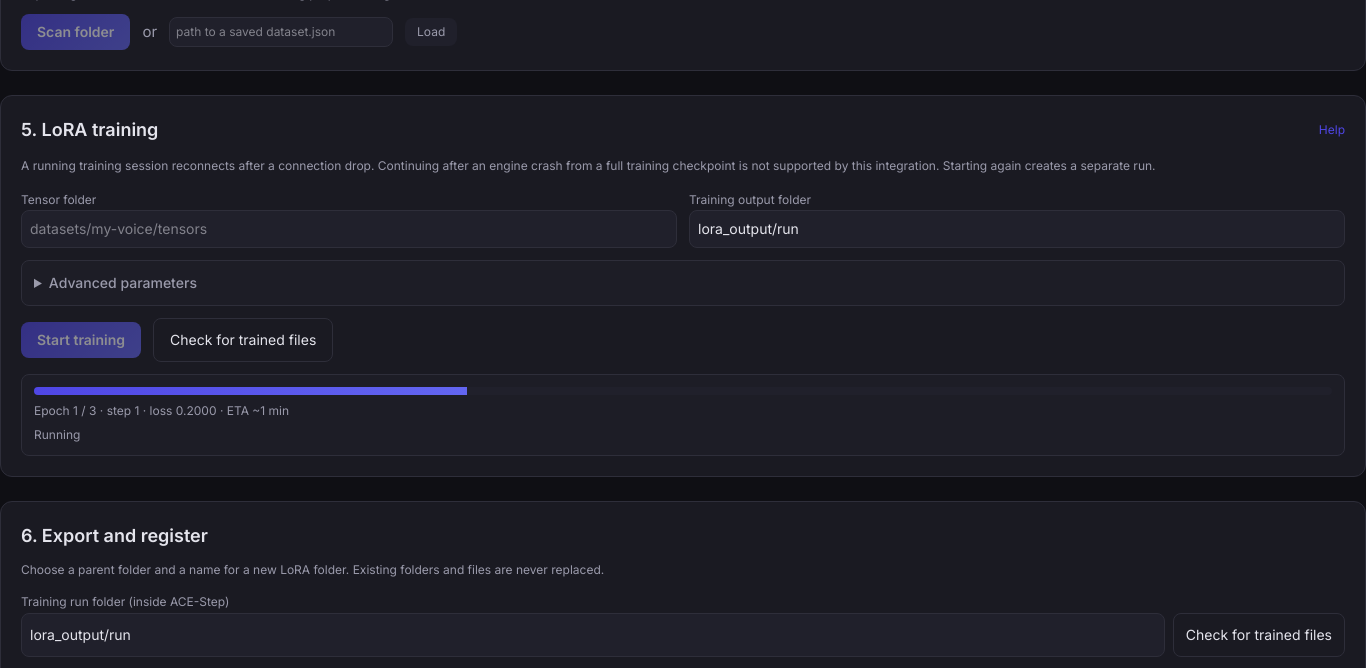
checks for a saved final adapter without starting training or exporting
This screenshot has width=1366, height=668.
(page scrolled)
Click the button "Check for trained files" below "Advanced parameters".
click(243, 340)  # box left=153, top=318, right=333, bottom=362
(page scrolled)
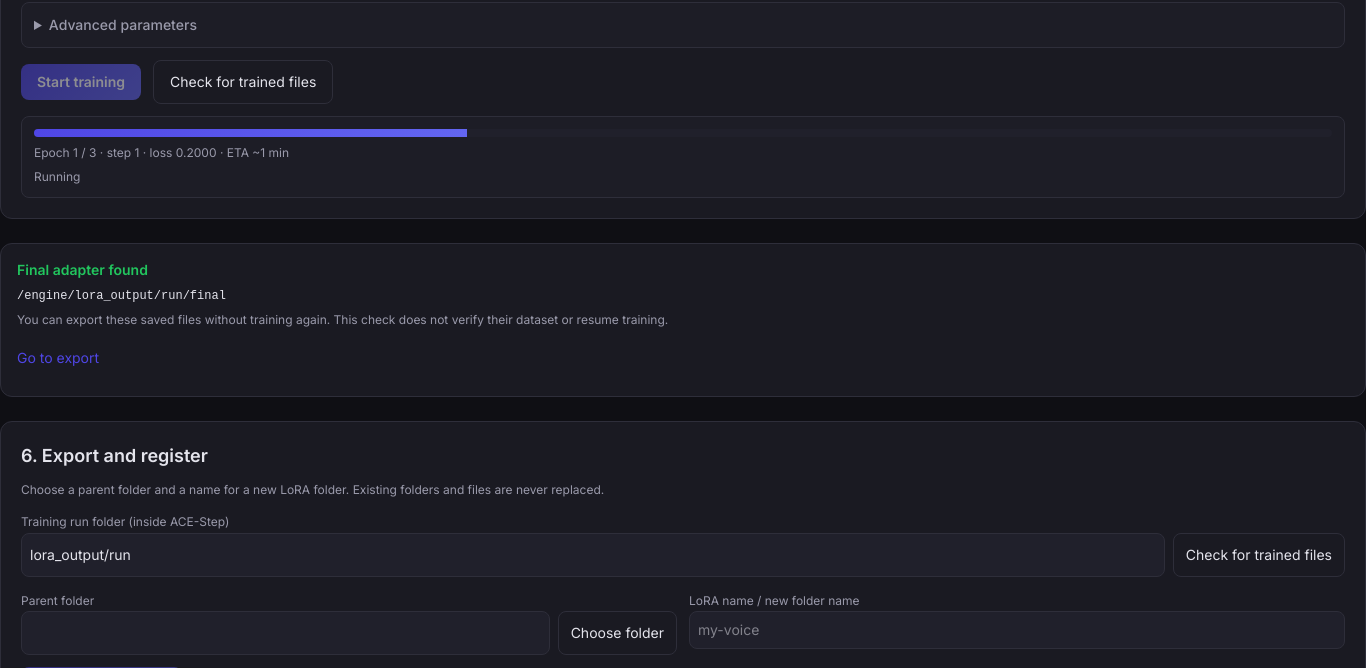
Result: the element that starts with "Final adapter found" is shown at left=17, top=261, right=148, bottom=278
Result: the element that starts with "Final adapter found" shows "/engine/lora_output/run/final" at left=17, top=289, right=226, bottom=303
Result: the link with id "lora-export" reads "Go to export" at left=17, top=349, right=99, bottom=366
